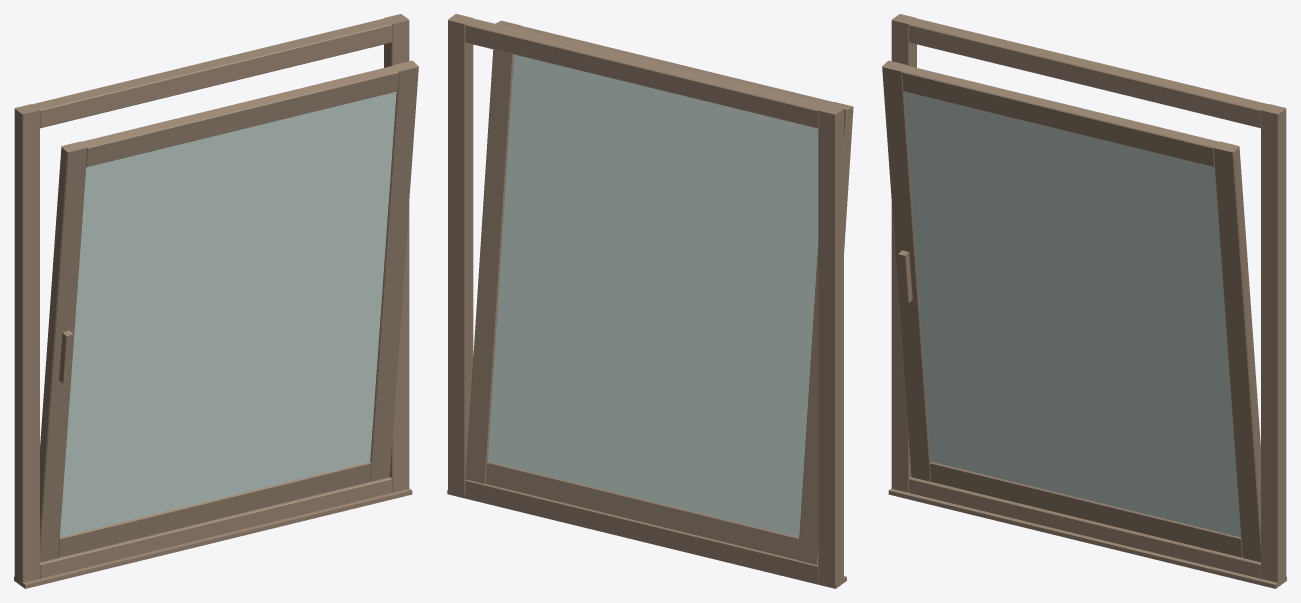
File: bt-S46-1-oscillo-quartz-1019.glb
3 renders of one model, left to right at view 1: azimuth 30°, elevation 25°; view 2: azimuth 150°, elevation 25°; view 3: azimuth 330°, elevation 25°, orthographic.
Parts seen in each view (by area): view 1: verre, structure; view 2: verre, structure; view 3: verre, structure.
Part boxes in pixels (x1=…): verre: x1=60, y1=91, x2=396, y2=537; structure: x1=14, y1=14, x2=418, y2=588; verre: x1=488, y1=54, x2=818, y2=537; structure: x1=447, y1=14, x2=853, y2=588; verre: x1=904, y1=91, x2=1240, y2=537; structure: x1=882, y1=14, x2=1286, y2=588.
Bounding box in the file's own units: 1.2 × 1.4 × 0.1937.
